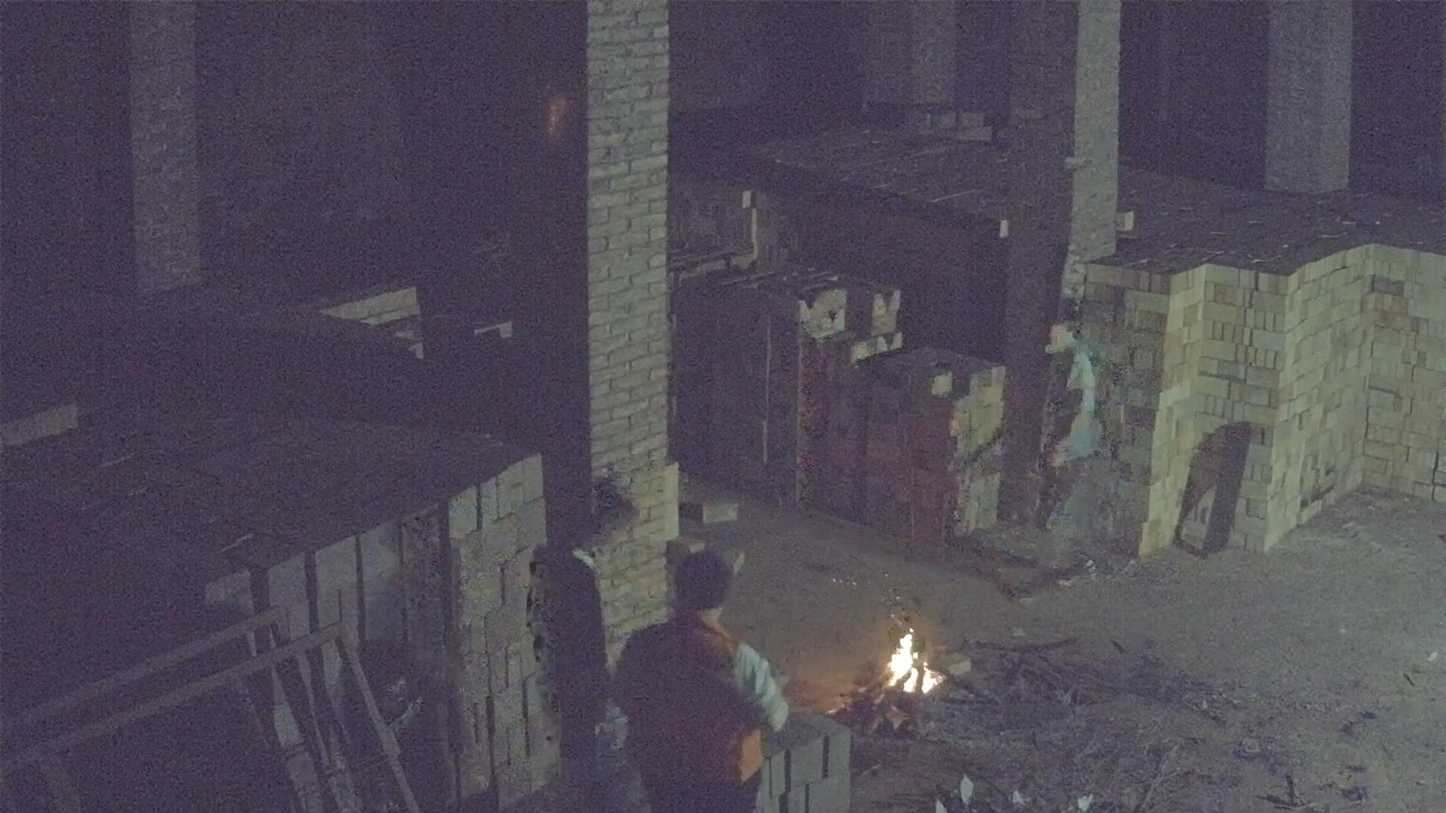fire: (888, 629, 938, 693)
